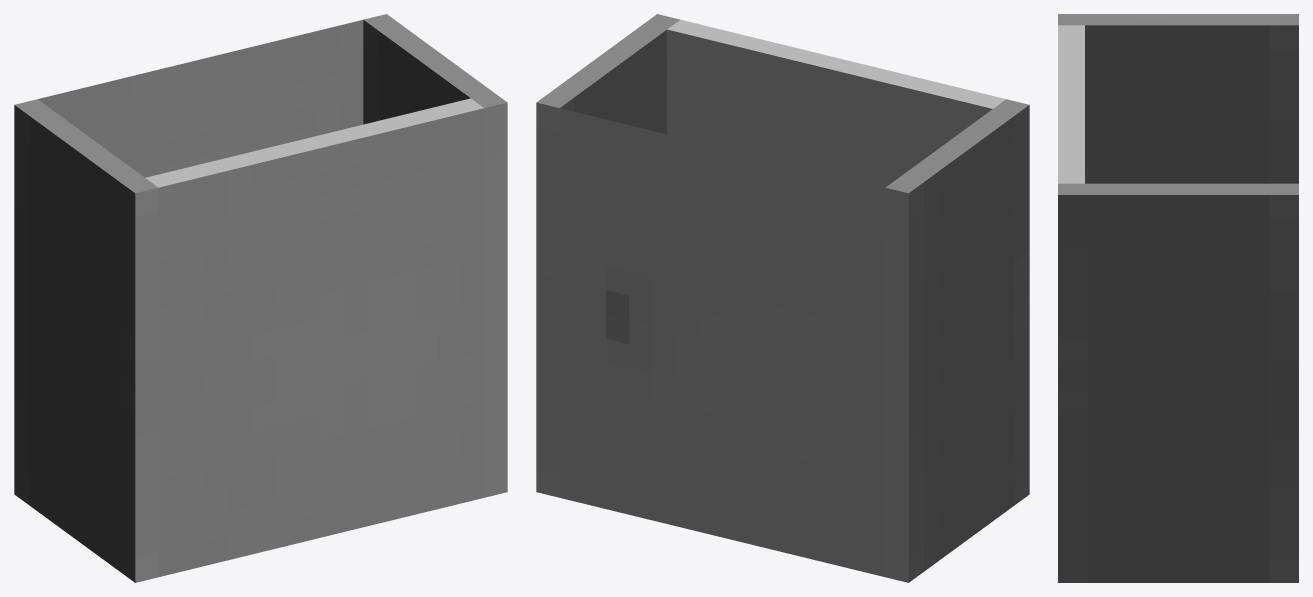
The model's file is locker_middle.obj.
The picture shows the model from 3 angles, left to right: view 1: azimuth 30°, elevation 25°; view 2: azimuth 150°, elevation 25°; view 3: azimuth 270°, elevation 25°; orthographic projection.
Parts seen in each view (by area): view 1: cube, door; view 2: door, cube; view 3: cube.
Part boxes in pixels (x1,y1,x2,y2): cube: (14, 14, 507, 582); door: (38, 20, 363, 177); door: (559, 108, 885, 576); cube: (536, 14, 1029, 582); cube: (1058, 14, 1298, 582).
Size of the model in its own units: 1 by 1 by 0.5625.
